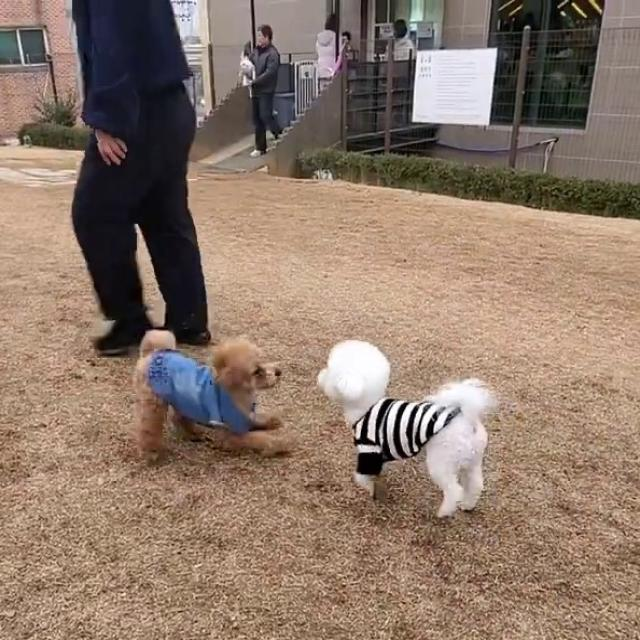Unleashed_Dog: (93, 105, 500, 521), (95, 106, 292, 466)
